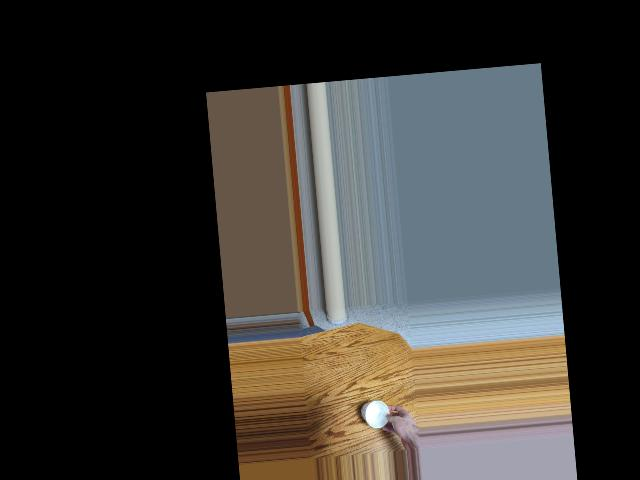cotage: (360, 394, 395, 434)
